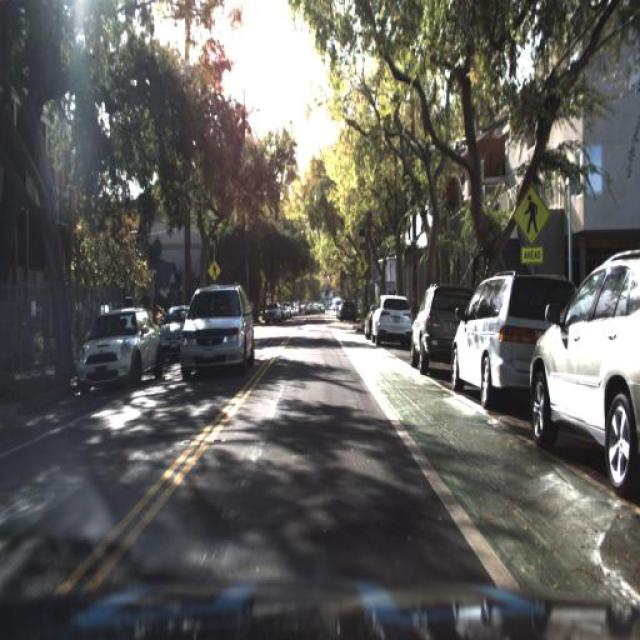car: (529, 250, 640, 498), (450, 274, 584, 414), (174, 279, 257, 383), (177, 269, 255, 376), (74, 307, 164, 398), (405, 280, 471, 379), (368, 288, 412, 348), (363, 294, 378, 344), (339, 294, 359, 327), (261, 298, 284, 324)
